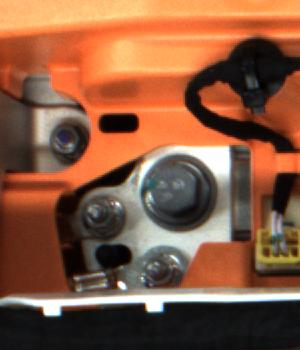nut_b: (138, 149, 220, 228)
